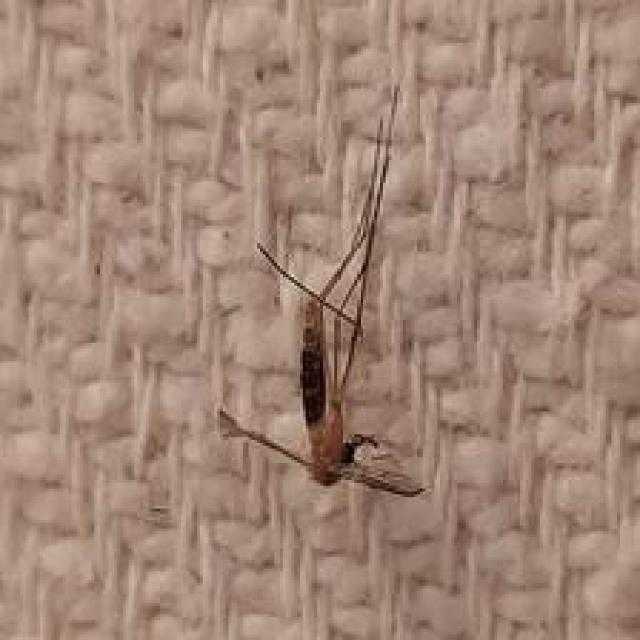Culex: (216, 84, 430, 499)
